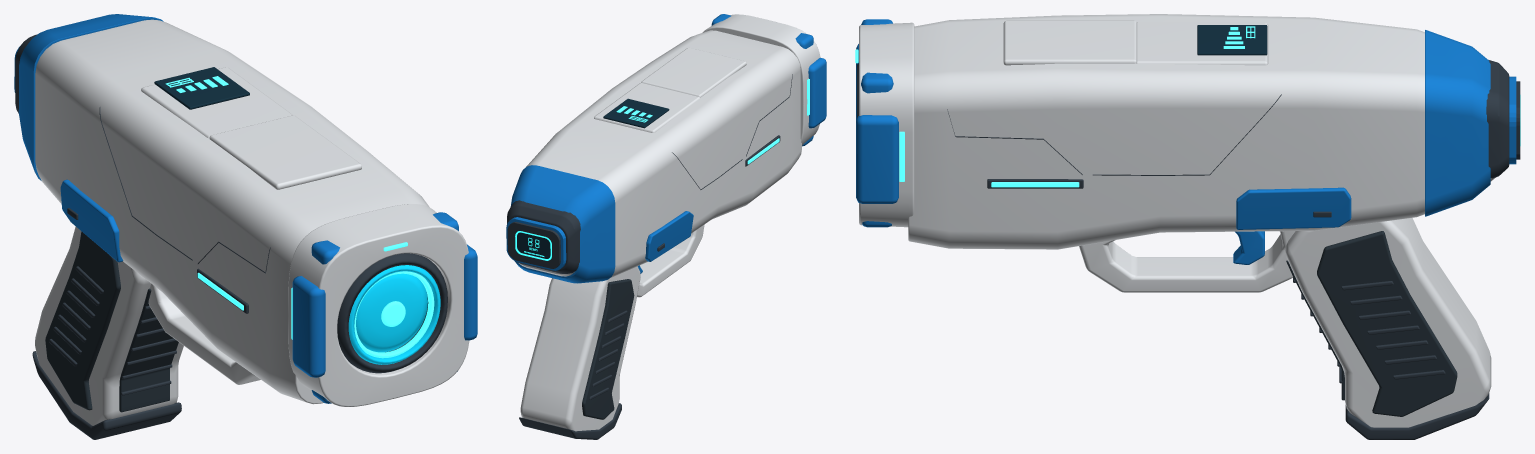
File: TrapPlacementProjectionGun_ScreenUpdated.fbx
3 renders of one model, left to right at view 1: azimuth 30°, elevation 25°; view 2: azimuth 150°, elevation 25°; view 3: azimuth 270°, elevation 25°, orthographic. The views are drawn at different scales.
Parts seen in each view (by area): view 1: BodyShell, FrontWhiteBezel, GripFrame, GripRubber_L, TopServicePanel, ProjectionWindow, TopInstrumentFrame, GripFrontRubber, RearBlueArmor, LensDarkSocket, FrontBlueCheek_L, TriggerGuard (+8 smaller); view 2: BodyShell, GripFrame, RearBlueArmor, GripRubber_L, FrontWhiteBezel, TopServicePanel, RearBumper, TopInstrumentFrame, TriggerGuard, SideBluePanel_L, RearDisplay_DarkBezel, FrontBlueCheek_L (+4 smaller); view 3: BodyShell, GripFrame, GripRubber_R, RearBlueArmor, TriggerGuard, FrontWhiteBezel, TopServicePanel, SideBluePanel_R, FrontBlueCheek_R, TopInstrumentFrame, RearBumper, TopDisplayGlass (+3 smaller).
Boxes of the visible parts, bbox=[...] form: BodyShell: bbox=[35, 19, 429, 404]; FrontWhiteBezel: bbox=[288, 204, 469, 406]; GripFrame: bbox=[35, 226, 183, 425]; GripRubber_L: bbox=[45, 231, 120, 410]; TopServicePanel: bbox=[209, 115, 361, 189]; ProjectionWindow: bbox=[356, 273, 427, 352]; TopInstrumentFrame: bbox=[141, 67, 292, 138]; GripFrontRubber: bbox=[119, 288, 178, 412]; RearBlueArmor: bbox=[18, 14, 163, 180]; LensDarkSocket: bbox=[337, 253, 447, 373]; FrontBlueCheek_L: bbox=[292, 276, 325, 377]; TriggerGuard: bbox=[148, 283, 260, 384]; BodyShell: bbox=[519, 30, 801, 277]; GripFrame: bbox=[520, 266, 640, 431]; RearBlueArmor: bbox=[510, 165, 615, 283]; GripRubber_L: bbox=[582, 279, 634, 419]; FrontWhiteBezel: bbox=[702, 14, 820, 145]; TopServicePanel: bbox=[641, 47, 746, 97]; RearBumper: bbox=[507, 200, 580, 273]; TopInstrumentFrame: bbox=[594, 83, 699, 132]; TriggerGuard: bbox=[637, 224, 704, 297]; SideBluePanel_L: bbox=[645, 211, 693, 261]; RearDisplay_DarkBezel: bbox=[507, 221, 560, 268]; FrontBlueCheek_L: bbox=[808, 58, 826, 128]; BodyShell: bbox=[908, 14, 1495, 249]; GripFrame: bbox=[1285, 217, 1491, 427]; GripRubber_R: bbox=[1317, 231, 1457, 416]; RearBlueArmor: bbox=[1425, 30, 1490, 216]; TriggerGuard: bbox=[1079, 231, 1295, 292]; FrontWhiteBezel: bbox=[859, 22, 914, 227]; TopServicePanel: bbox=[1003, 20, 1136, 65]; SideBluePanel_R: bbox=[1236, 187, 1351, 229]; FrontBlueCheek_R: bbox=[856, 115, 898, 203]; TopInstrumentFrame: bbox=[1136, 22, 1268, 65]; RearBumper: bbox=[1486, 60, 1509, 178]; TopDisplayGlass: bbox=[1197, 25, 1267, 55].
Size of the model in its own units: 0.0939 by 0.2069 by 0.3245.
